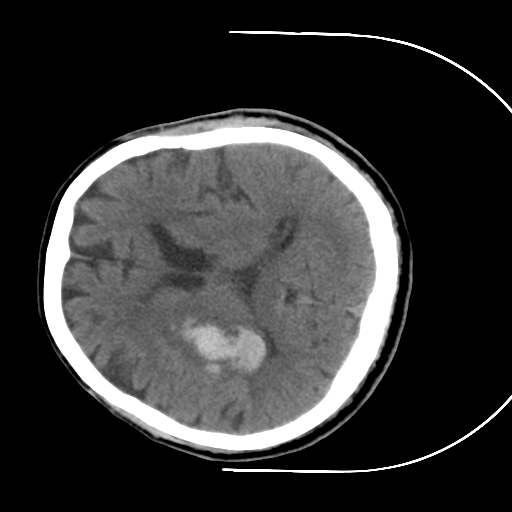a: (145, 292, 287, 394)
